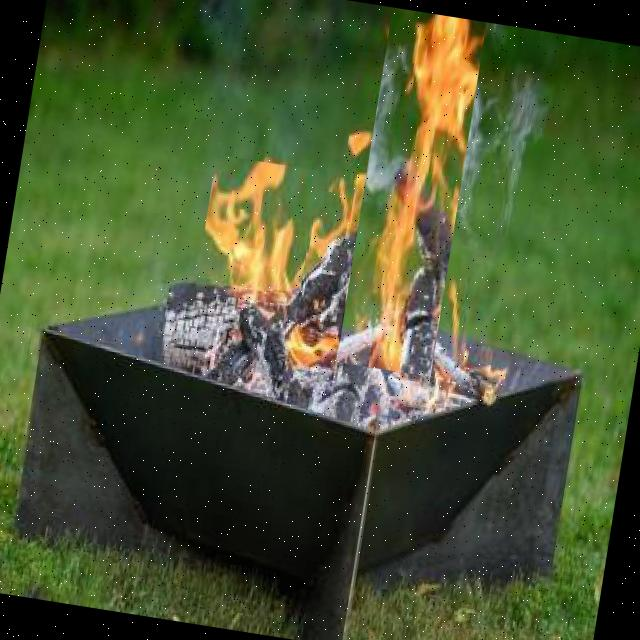fire: (336, 8, 486, 377), (195, 154, 319, 308)
